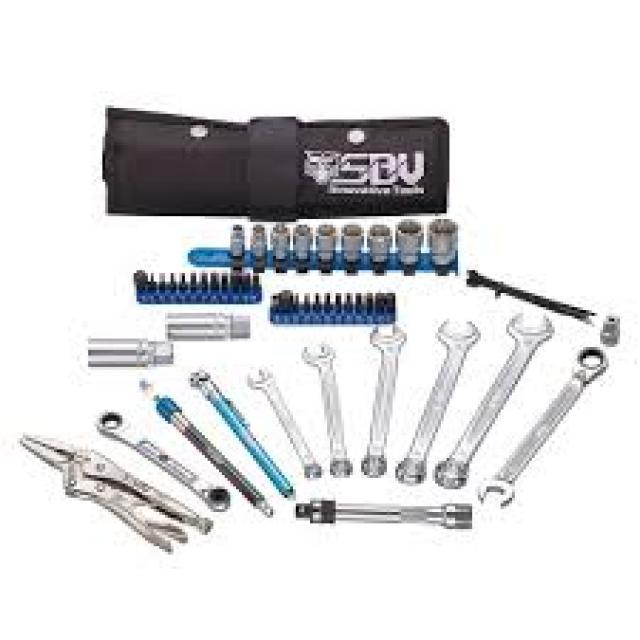wrench: (480, 344, 610, 509), (438, 310, 552, 486), (396, 314, 486, 486), (248, 363, 326, 481), (356, 323, 409, 481), (301, 336, 354, 479)
